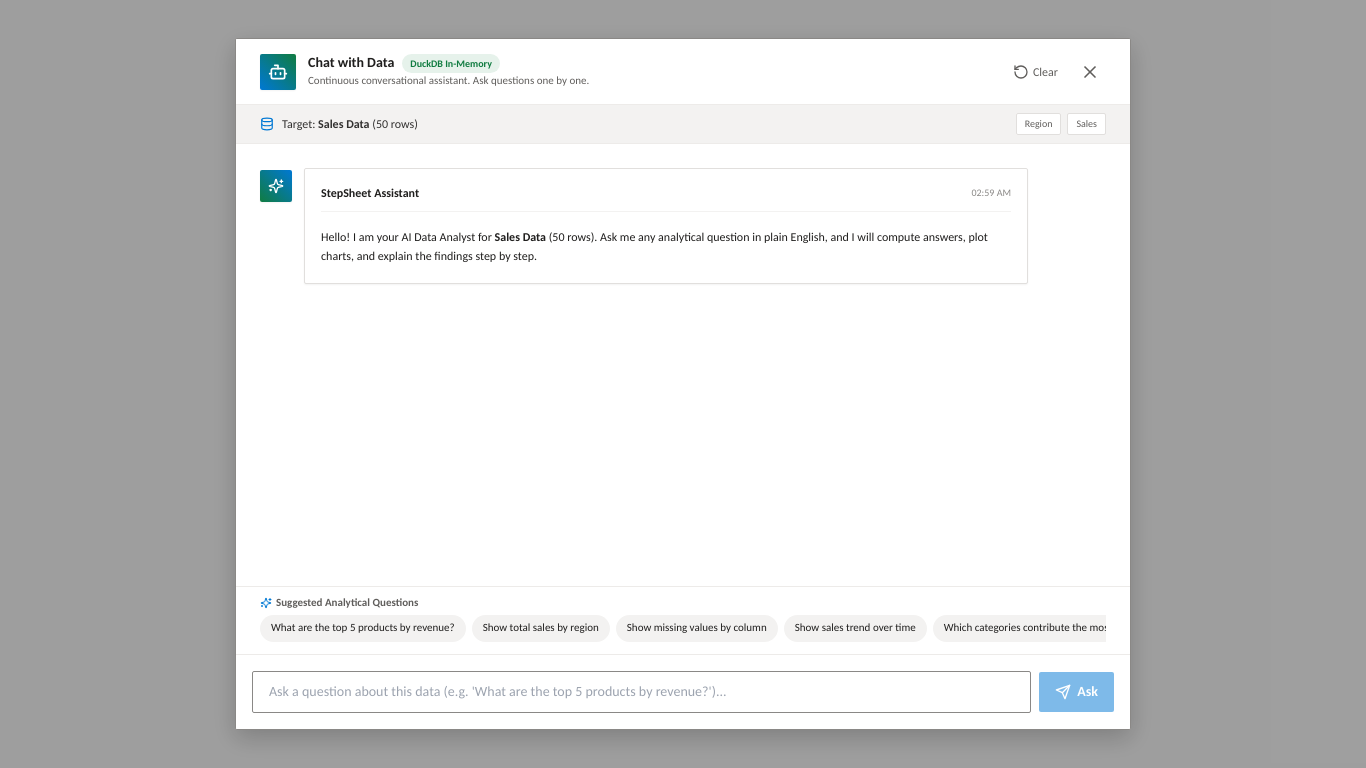
Test: AI Analytics Suite (Chat with Data, Native Julius Dashboard, Local AI) › renders ChatWithDataModal and submits analytical query
Expected: the heading "Chat with Data" is shown, [308,53,394,73]
Expected: the text "Suggested Analytical Questions" is shown, [260,595,418,611]
# Click suggested prompt
Step 1. Click the button "Show total sales by region" → click(541, 628), box [472,615,610,642]
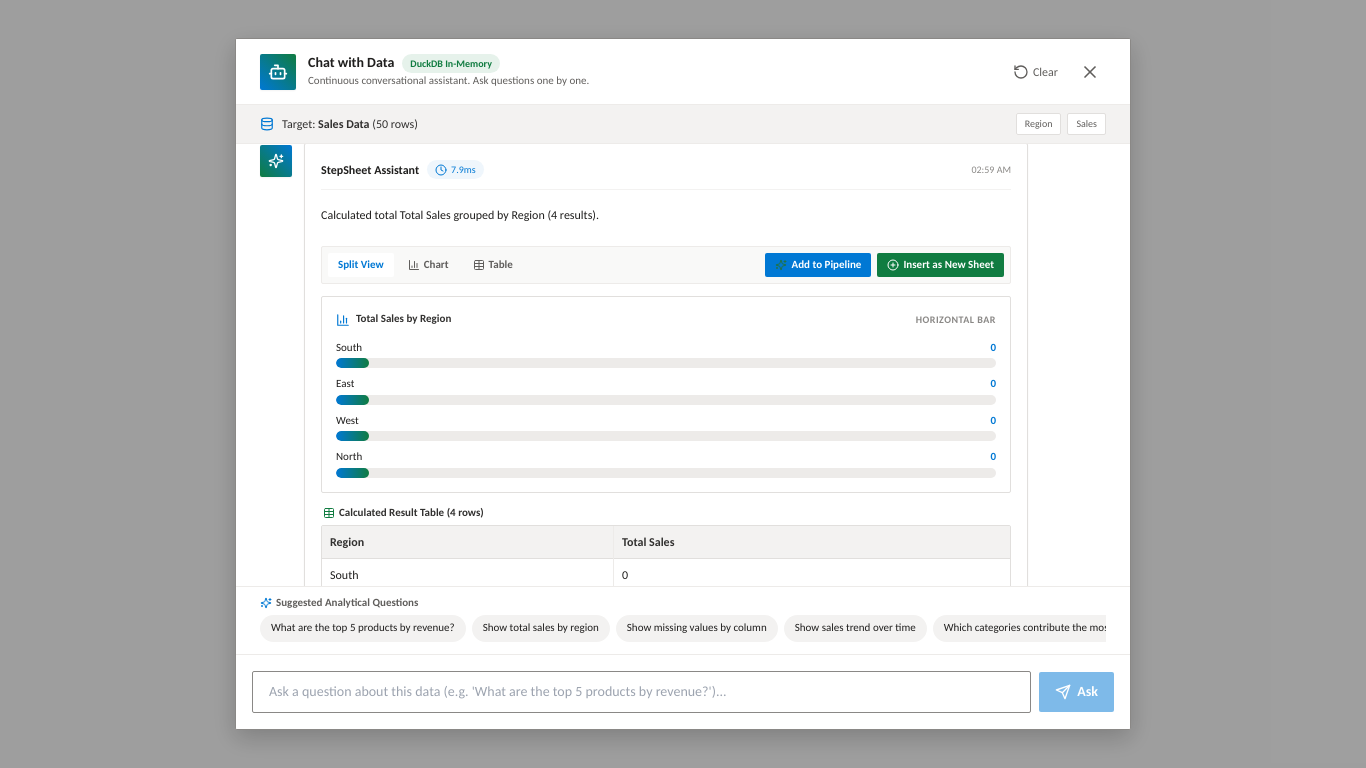
Expected: the text "Calculated Result Table (4 rows)" is shown, [323,505,484,521]
